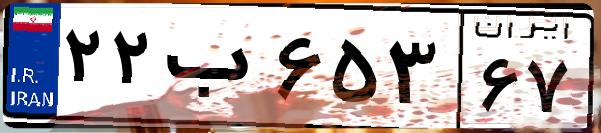2: (57, 26, 110, 100), (110, 28, 158, 98)
3: (385, 28, 445, 110)
5: (330, 28, 385, 110)
6: (270, 28, 330, 110), (475, 38, 525, 113)
7: (525, 38, 570, 115)
ب: (158, 20, 270, 120)
